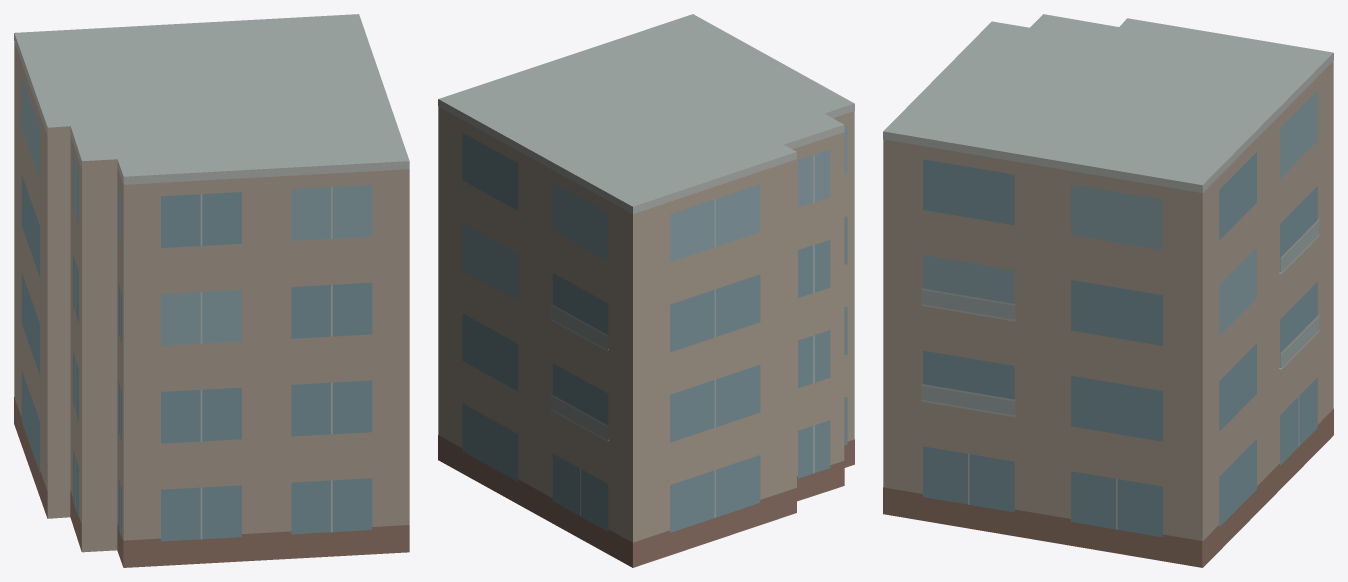
Rendered from survey-upis-32662722.glb.
3 views of the same model, side by side, from view 1: azimuth 30°, elevation 25°; view 2: azimuth 150°, elevation 25°; view 3: azimuth 270°, elevation 25° (orthographic). The views are drawn at different scales.
Parts seen in each view (by area): view 1: survey-upis-32662722.tmp; view 2: survey-upis-32662722.tmp; view 3: survey-upis-32662722.tmp.
Boxes of the visible parts, bbox=[...] form: survey-upis-32662722.tmp: bbox=[14, 14, 409, 567]; survey-upis-32662722.tmp: bbox=[438, 14, 854, 567]; survey-upis-32662722.tmp: bbox=[883, 14, 1333, 567].
Bounding box in the file's own units: 11.33 × 11.8 × 12.6.
